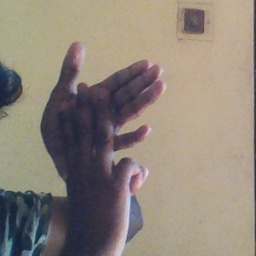M: (39, 42, 172, 256)
